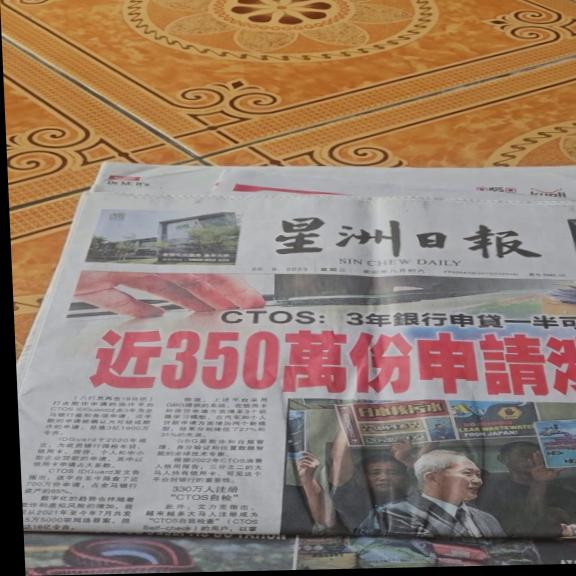Kertas: (100, 167, 576, 538)
